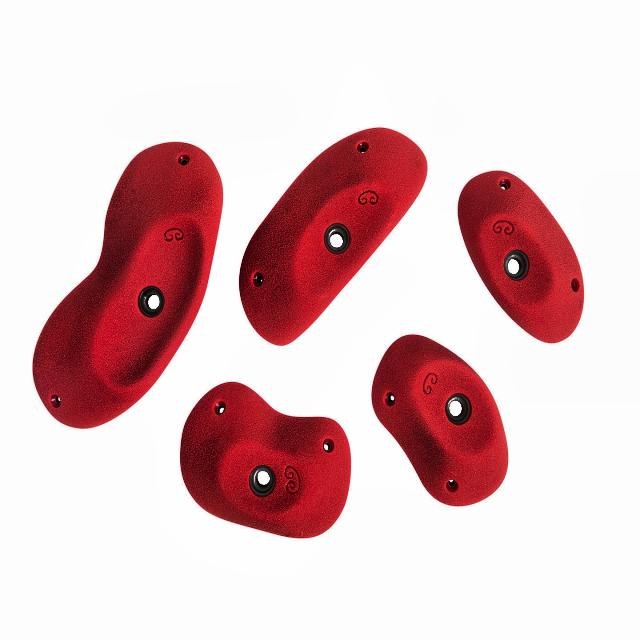Hold: (29, 144, 220, 436), (237, 126, 429, 344), (178, 382, 348, 538), (369, 336, 518, 508), (458, 173, 585, 347)
